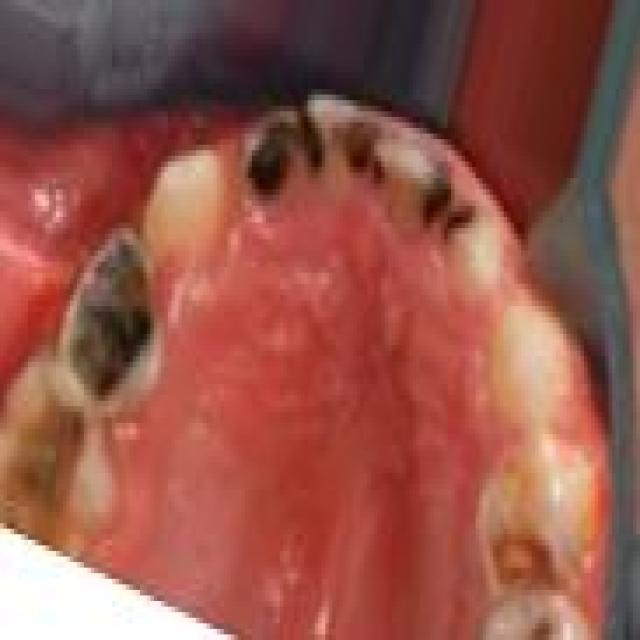caries: (472, 441, 589, 599), (61, 230, 165, 402), (1, 369, 108, 525), (299, 84, 376, 200), (369, 128, 446, 243), (436, 179, 503, 297), (232, 108, 306, 210)
